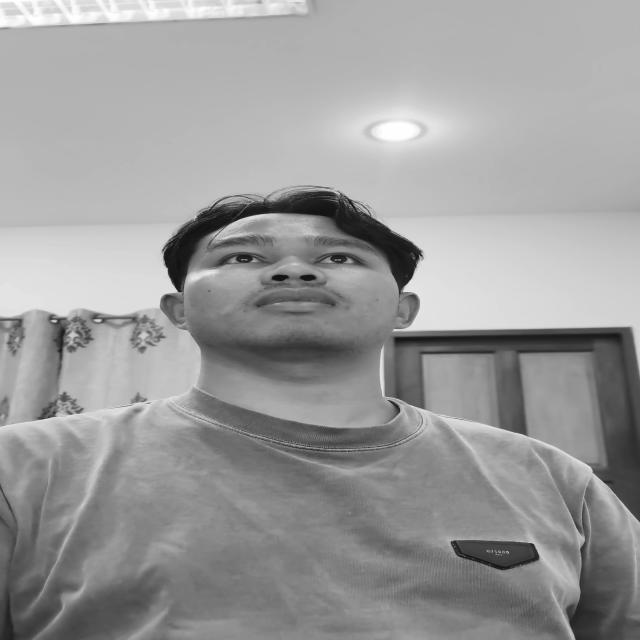ear: (160, 292, 187, 330), (394, 292, 420, 329)
